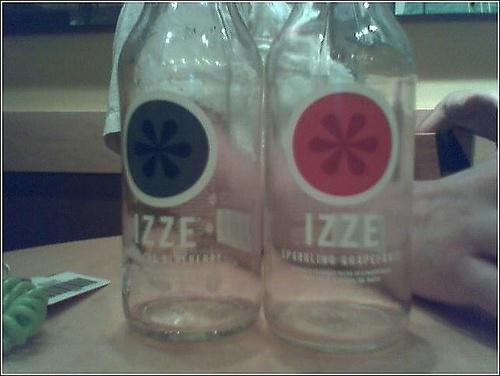bottle: (265, 1, 417, 352), (119, 1, 264, 342)
